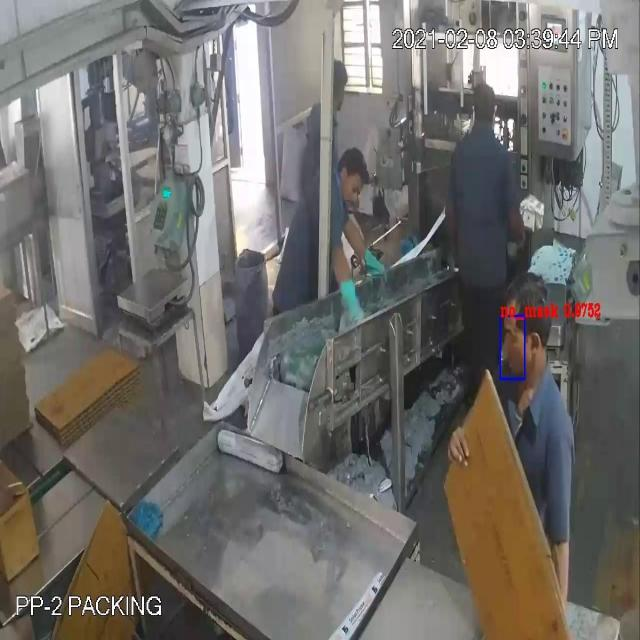Gloves: (27, 67, 558, 562)
